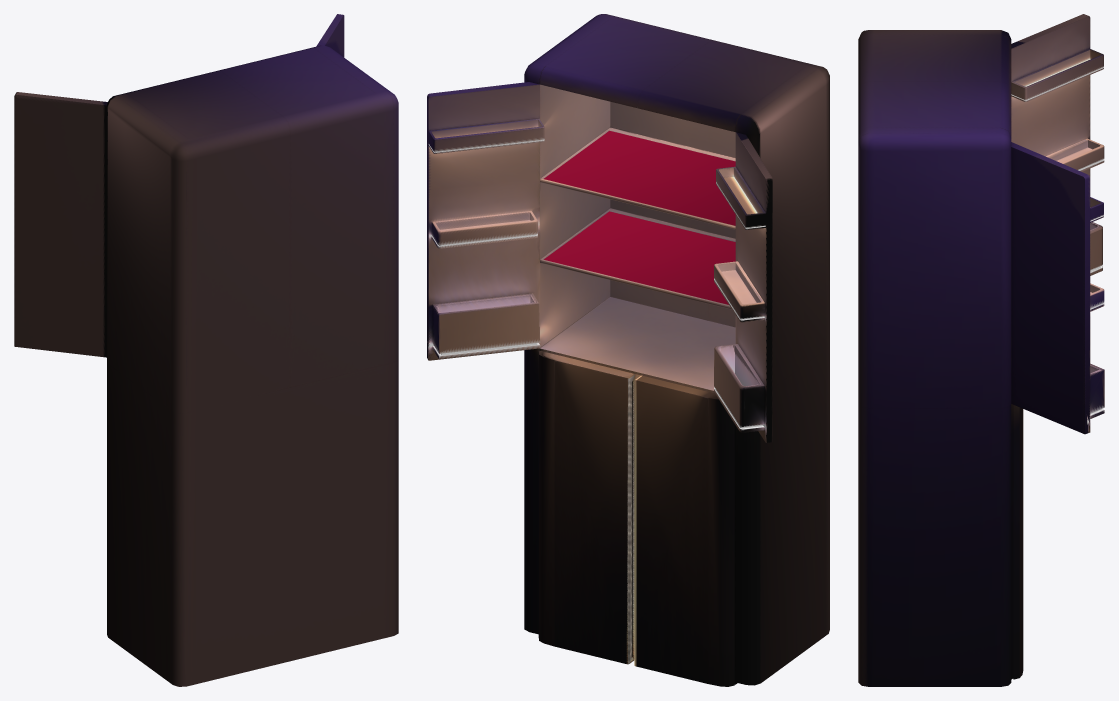
The model's file is Fridge_OutlineReady.fbx.
The picture shows the model from 3 angles, left to right: view 1: azimuth 30°, elevation 25°; view 2: azimuth 150°, elevation 25°; view 3: azimuth 270°, elevation 25°; orthographic projection. The views are drawn at different scales.
Parts seen in each view (by area): view 1: Fridge; view 2: Fridge; view 3: Fridge.
Boxes of the visible parts, x1=… form: Fridge: x1=14, y1=14, x2=398, y2=686; Fridge: x1=427, y1=14, x2=829, y2=686; Fridge: x1=858, y1=14, x2=1104, y2=686.
Size of the model in its own units: 543 by 850 by 344.
Materials: 2 (1 with a texture image).
